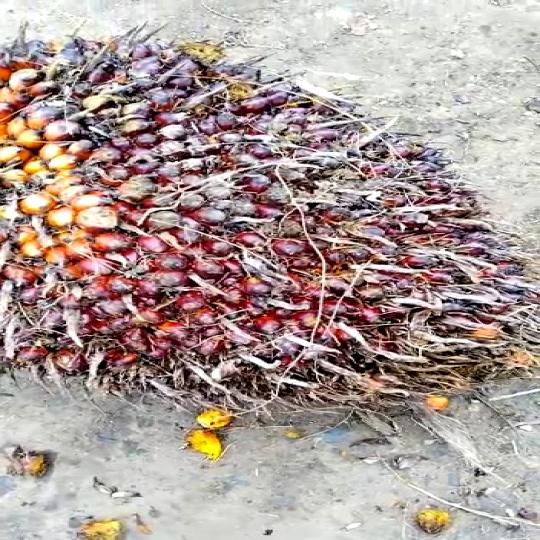masak: (0, 7, 540, 446)
